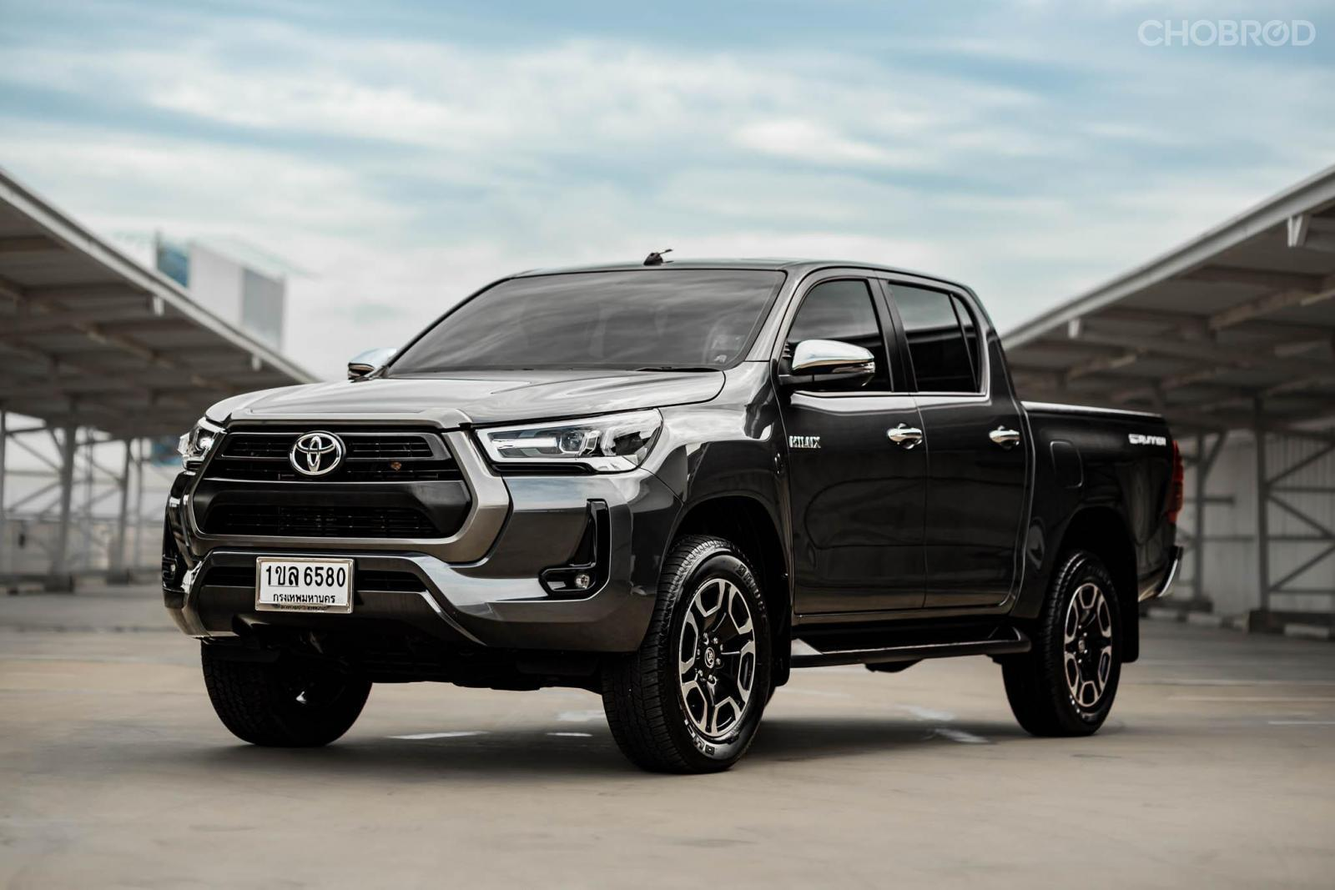license-plate: (248, 549, 357, 618)
